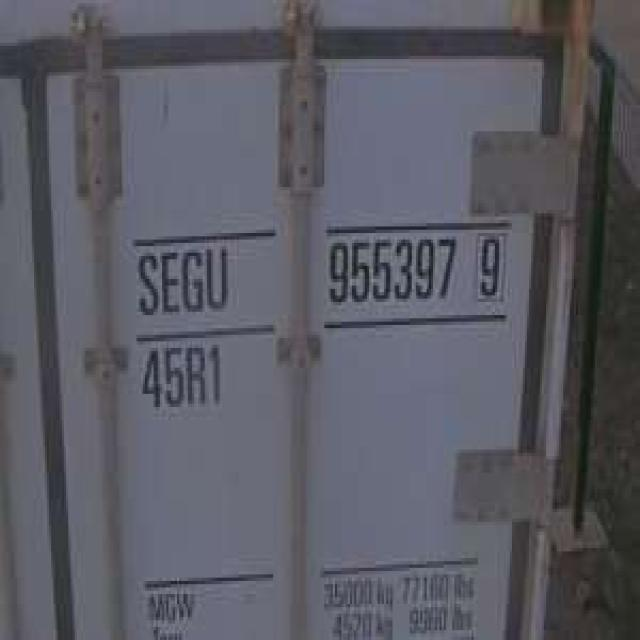dv: (468, 226, 507, 306)
owner: (126, 244, 234, 324)
serial: (318, 229, 458, 314)
size: (134, 339, 232, 416)
